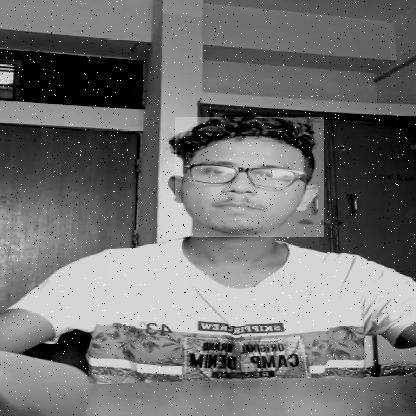Normal: (175, 117, 324, 237)
